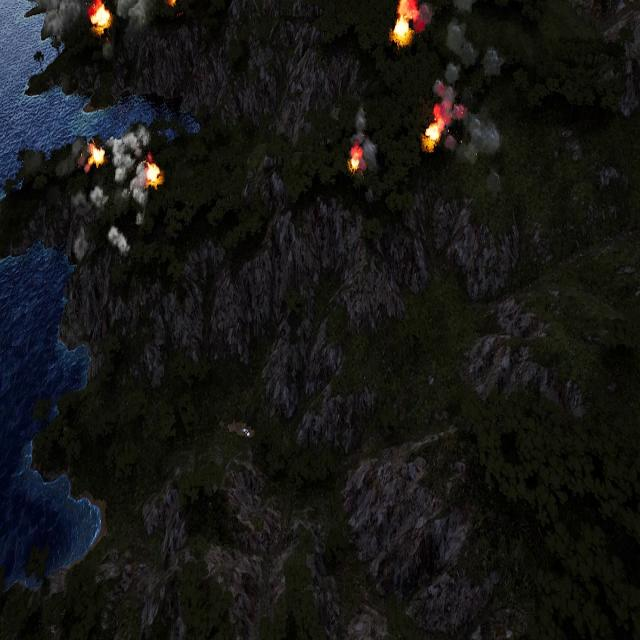fire: (394, 0, 421, 46), (424, 106, 446, 148), (90, 0, 111, 29), (145, 160, 161, 187), (348, 146, 363, 173), (90, 144, 106, 168), (167, 0, 177, 7)
smoke: (421, 0, 502, 168), (69, 123, 149, 262), (24, 0, 96, 38), (350, 105, 380, 175), (103, 0, 178, 28), (57, 137, 88, 177)
